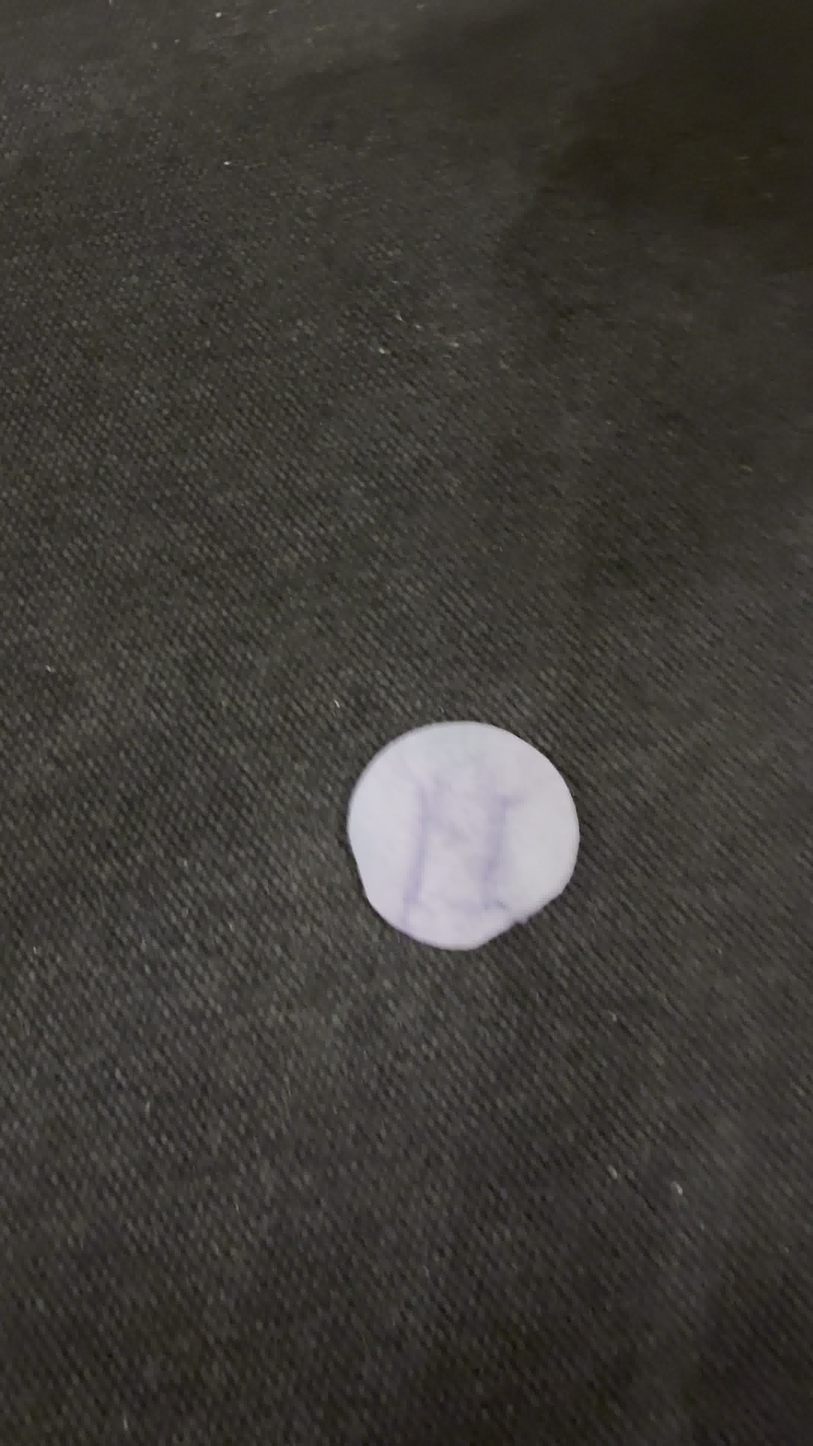Target: (342, 714, 587, 954)
